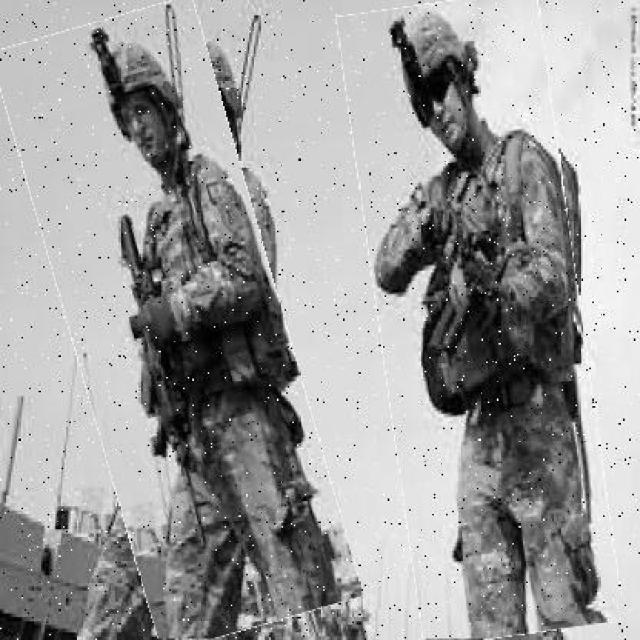Person: (32, 4, 324, 640), (356, 1, 603, 639)
